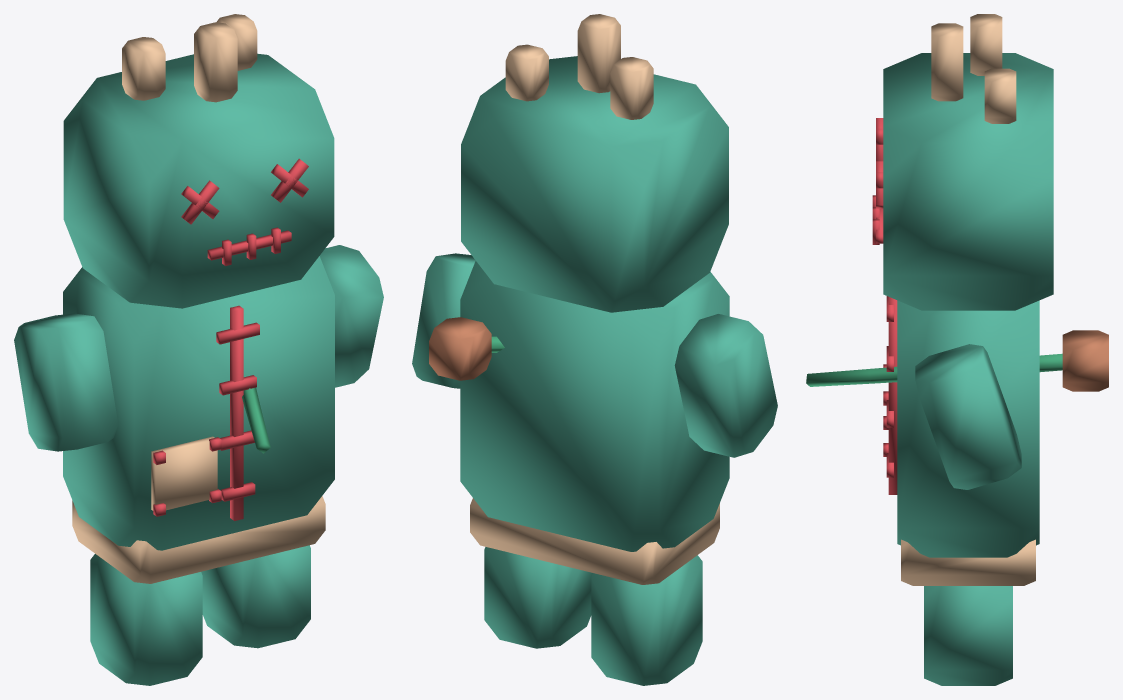
Rendered from manika.glb.
The picture shows the model from 3 angles, left to right: view 1: azimuth 30°, elevation 25°; view 2: azimuth 150°, elevation 25°; view 3: azimuth 270°, elevation 25°; orthographic projection.
Parts seen in each view (by area): view 1: body, head, arm-r, arm-l; view 2: body, head, arm-r, arm-l; view 3: head, body, arm-l.
Boxes of the visible parts, bbox=[...] form: body: bbox=[63, 256, 334, 685]; head: bbox=[63, 14, 334, 308]; arm-r: bbox=[14, 313, 118, 451]; arm-l: bbox=[320, 245, 383, 387]; body: bbox=[429, 261, 729, 685]; head: bbox=[461, 14, 728, 312]; arm-r: bbox=[674, 314, 777, 457]; arm-l: bbox=[412, 253, 475, 388]; head: bbox=[872, 14, 1053, 310]; body: bbox=[806, 296, 1108, 685]; arm-l: bbox=[915, 344, 1021, 489].
Size of the model in its own units: 0.208 by 0.389 by 0.1704.
